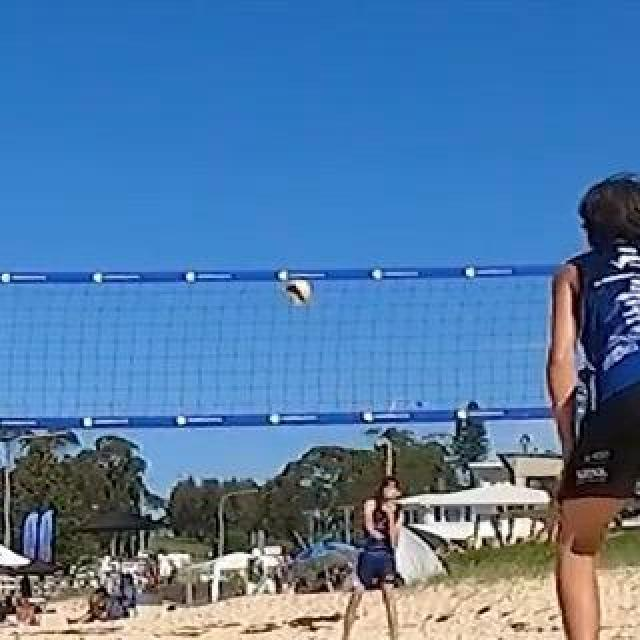volleyball: (289, 279, 313, 303)
